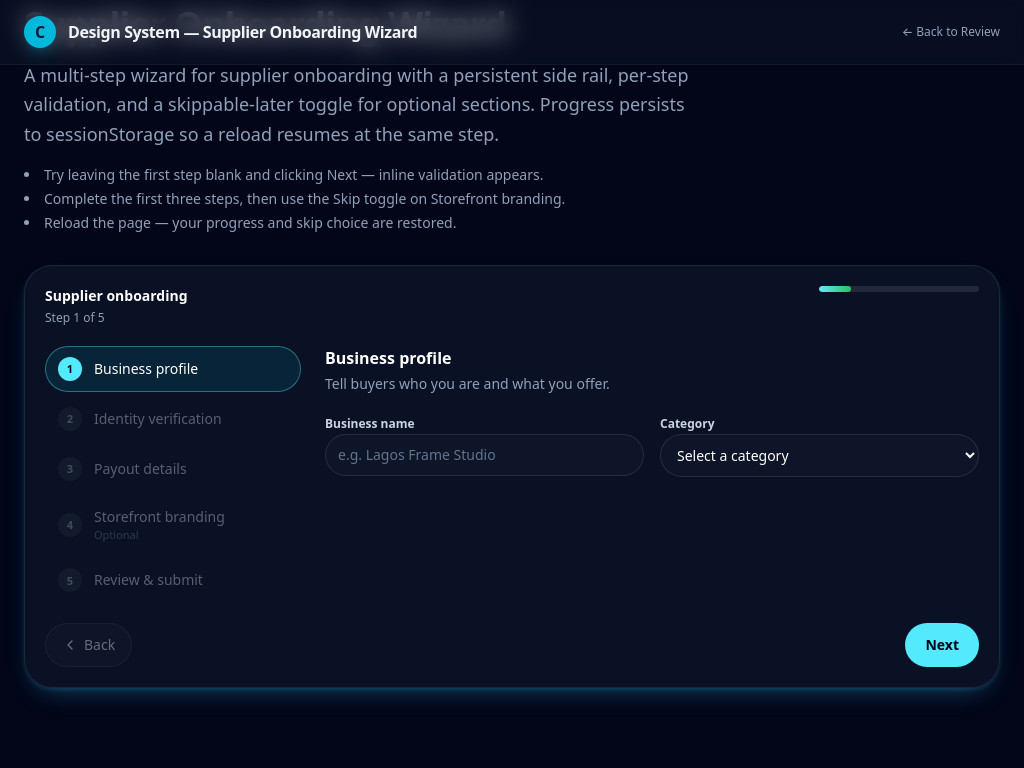
Scenario: SupplierOnboardingDesignReviewPage › shows an inline validation error when attempting to proceed with invalid input
(page scrolled)
Click the button "Next" at (942, 646), box [906,624,979,668]
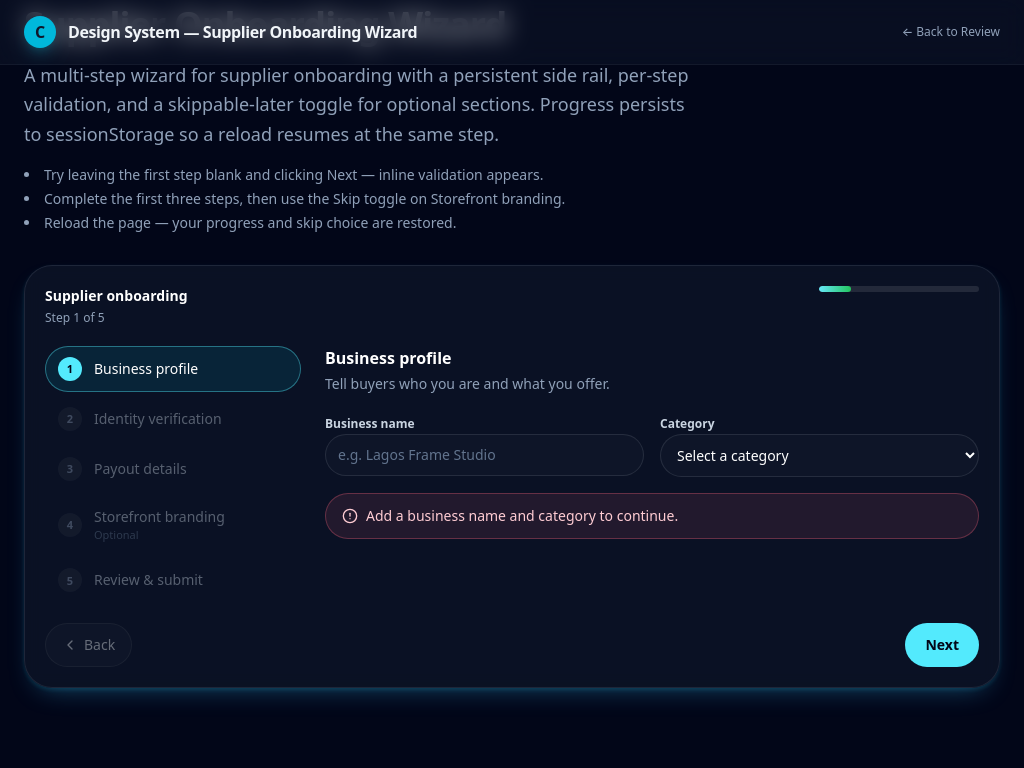
Check: the message reads "Add a business name and category to continue.", box [366,506,678,525]
